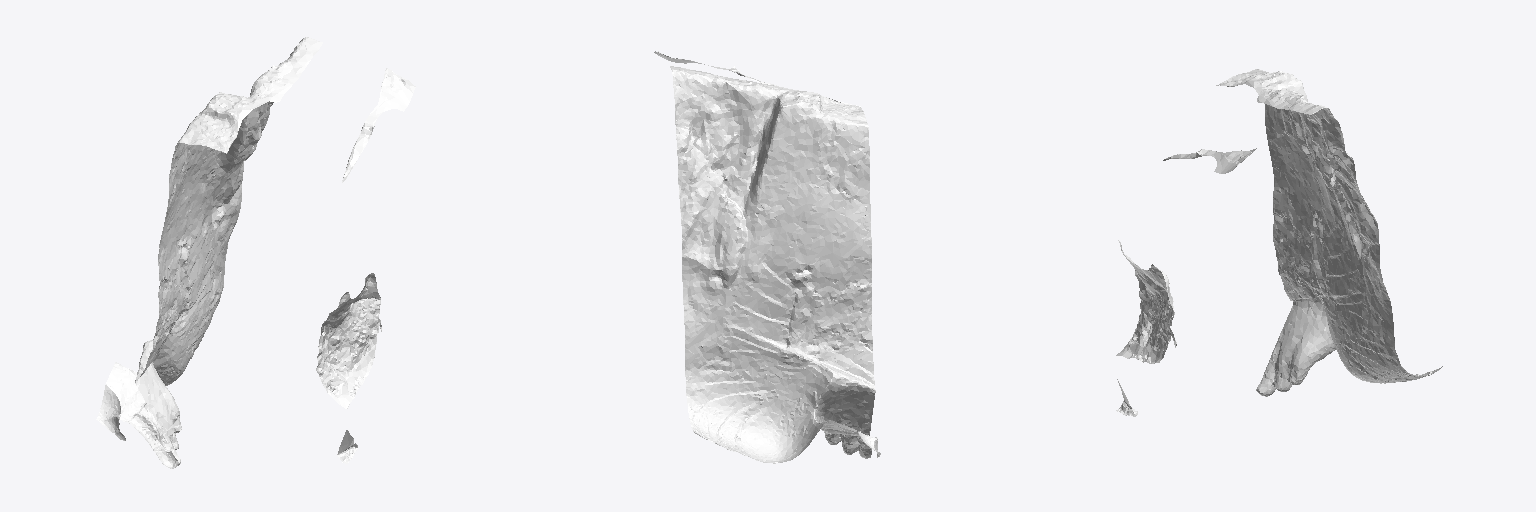
Rendered from tile_2_5.obj.
3 renders of one model, left to right at view 1: azimuth 30°, elevation 25°; view 2: azimuth 150°, elevation 25°; view 3: azimuth 270°, elevation 25°, orthographic.
Parts seen in each view (by area): view 1: texture_0; view 2: texture_0; view 3: texture_0.
Boxes of the visible parts, x1,y1,x2,y2 form: texture_0: [96, 37, 415, 468]; texture_0: [654, 51, 880, 463]; texture_0: [1116, 69, 1442, 416].
Size of the model in its own units: 0.4194 by 0.5404 by 0.436.